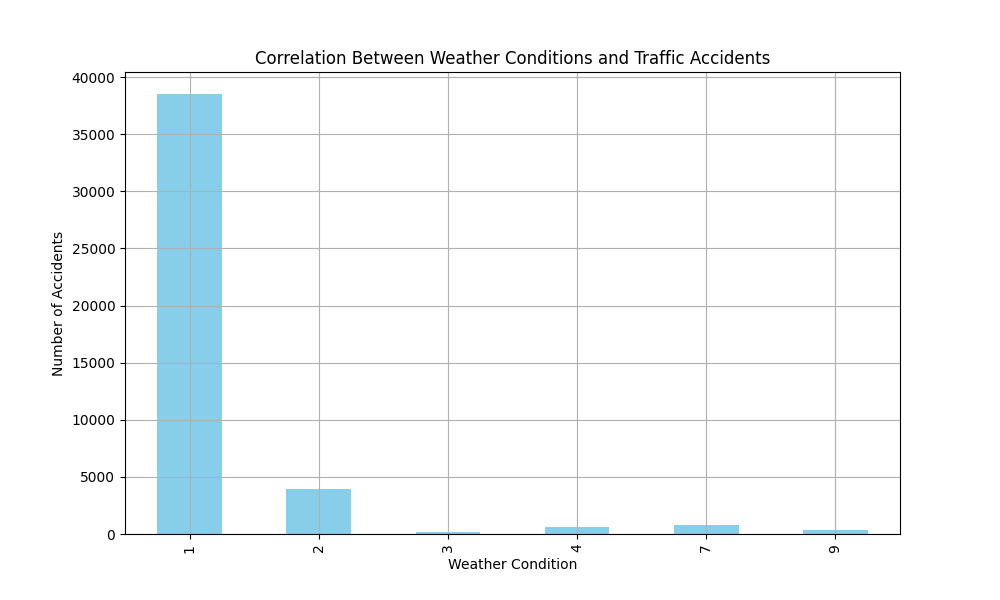

What the dashboard file says about the page in this screenshot:
{"tool":"tableau","page":{"name":"Dashboard 1","canvas":[1000,1000],"units":"permille","ordinal":0},"visuals":[{"type":"worksheet","title":"Sheet 2","mark":"Bar","rows":["count"],"cols":["date","date"],"box":[1.8,480.7,991,499.4]}]}

Visuals, with their boxes on the dashboard's canvas, which has no fixed pixel size, in thousandths of its width and height (x1, y1, x2, y2). These are canvas units, not pixel positions in the 1000x600 screenshot, which may show the page scaled, cropped or inside an application window:
"Sheet 2" worksheet (Bar marks): BBox(2, 481, 993, 980)
